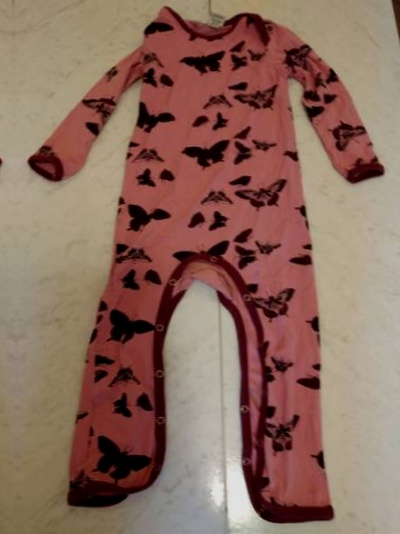Body: (34, 0, 390, 518)
